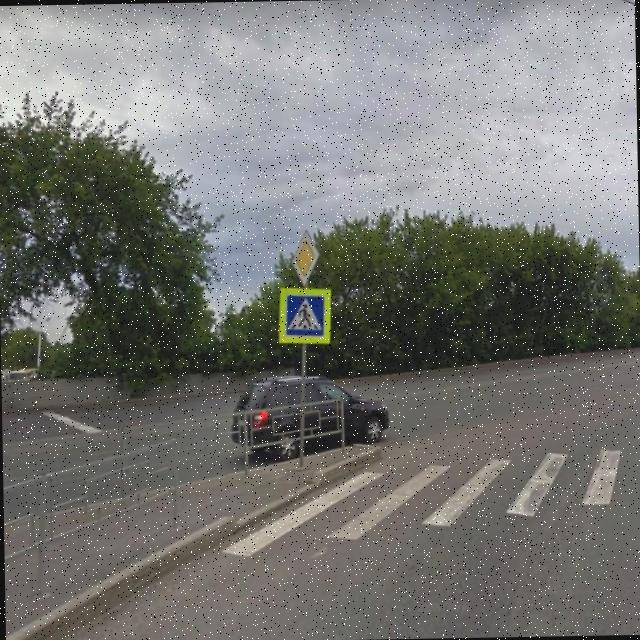Droga z pierwszenstwem: (287, 226, 327, 288)
Przejscie dla pieszych: (276, 286, 333, 350)
